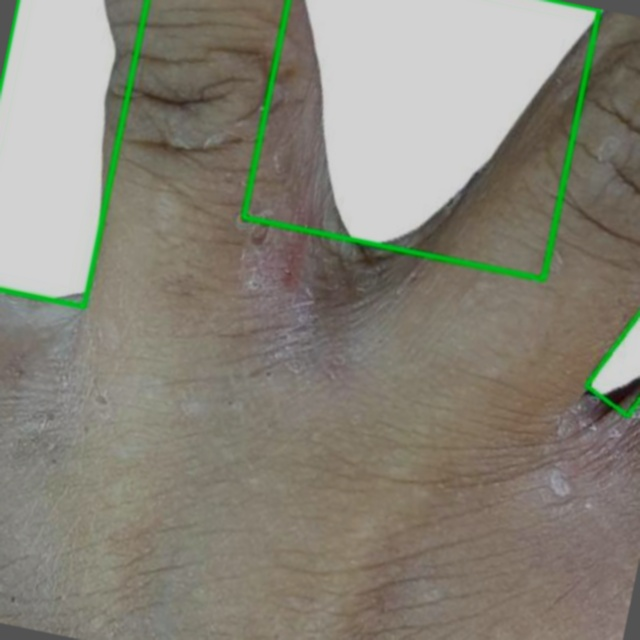Scabies: (244, 0, 599, 279), (0, 0, 147, 307)
